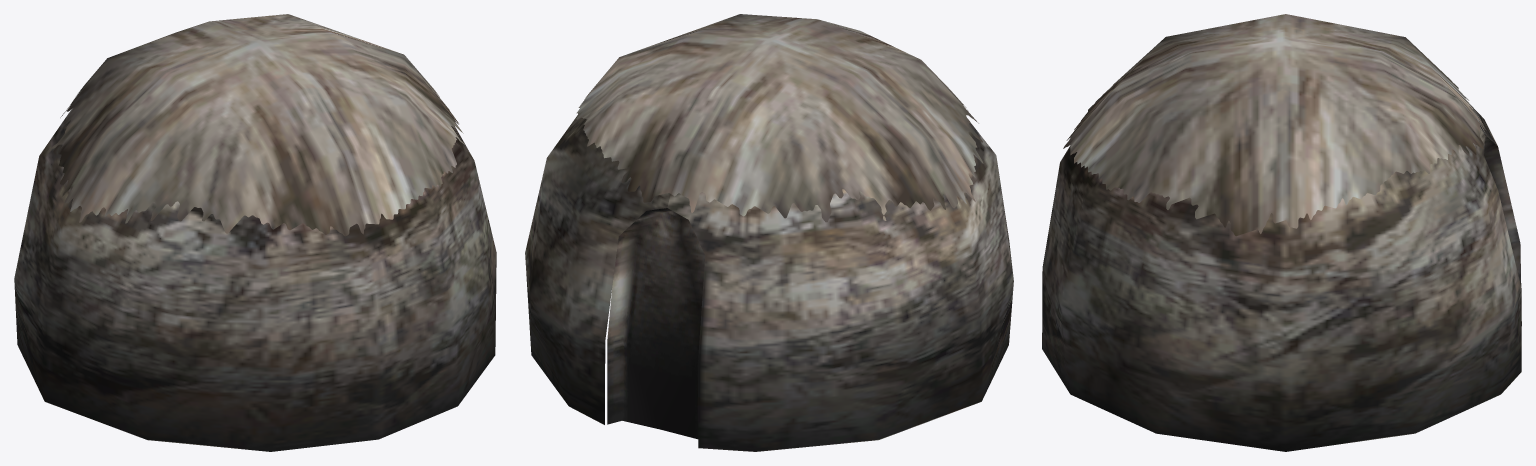
File: MogSlm06.glb
The picture shows the model from 3 angles, left to right: view 1: azimuth 30°, elevation 25°; view 2: azimuth 150°, elevation 25°; view 3: azimuth 270°, elevation 25°; orthographic projection.
Parts seen in each view (by area): view 1: _MogSlm06; view 2: _MogSlm06; view 3: _MogSlm06.
Boxes of the visible parts, <box> form: _MogSlm06: <box>14,14,496,451</box>; _MogSlm06: <box>525,14,1013,451</box>; _MogSlm06: <box>1042,14,1521,451</box>.
Size of the model in its own units: 5.23 by 3.63 by 5.13.
1 material, 1 textured.
